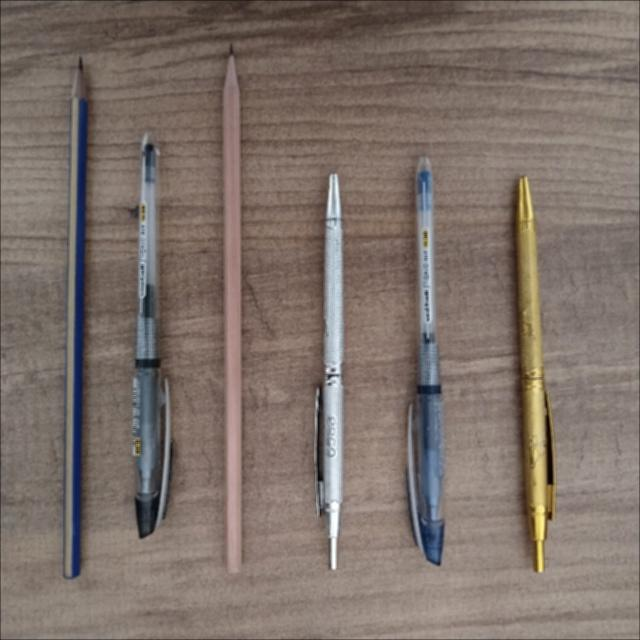pen: (132, 132, 170, 537), (407, 157, 444, 564)
pencil: (63, 58, 87, 577), (223, 47, 241, 572)
signature pen: (516, 177, 555, 571), (315, 173, 343, 569)
